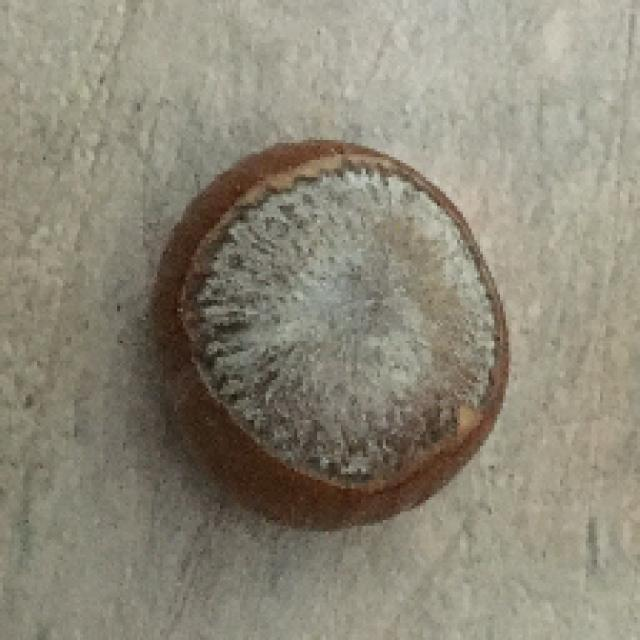qualityHazelnut: (148, 136, 518, 536)
